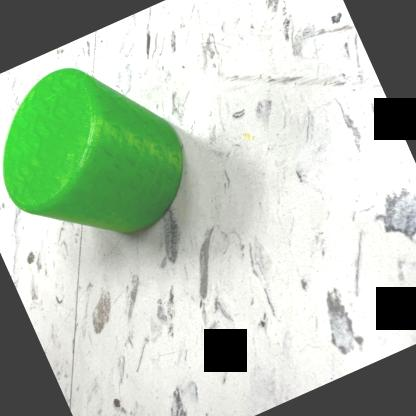green cylinder: (0, 33, 209, 276)
